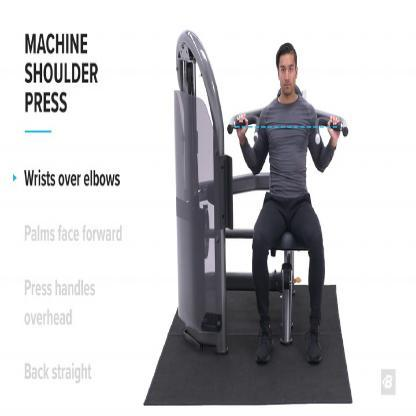shoulder press machine: (165, 24, 351, 372)
